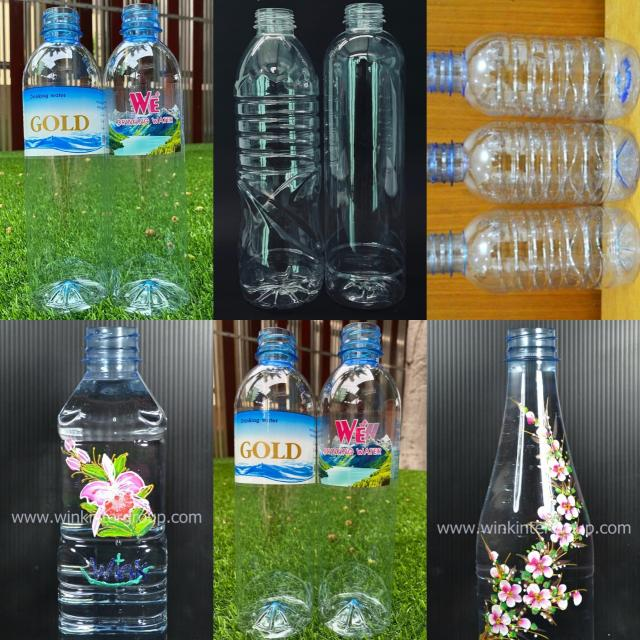plastik: (476, 328, 594, 640), (58, 327, 168, 638), (234, 9, 324, 309), (22, 8, 109, 314), (104, 4, 189, 316), (318, 323, 401, 638), (234, 328, 316, 639), (324, 3, 406, 309), (428, 206, 640, 293), (428, 34, 640, 120), (428, 121, 640, 204)
